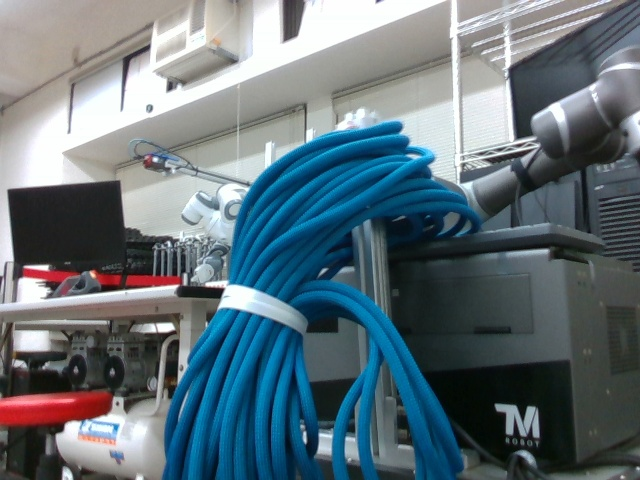rope: (161, 120, 466, 480)
